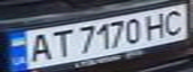0: (124, 16, 148, 44)
1: (93, 20, 112, 51)
7: (75, 22, 96, 54), (106, 18, 127, 47)
A: (21, 30, 54, 64)
C: (157, 7, 190, 36)
H: (139, 10, 172, 39)
T: (45, 27, 75, 60)
